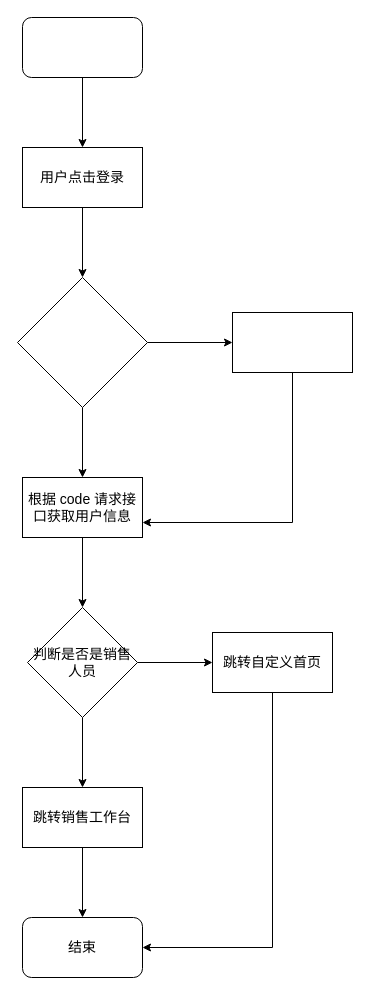
Some shapes in this 370 by 995 pixel diagram are drawn without their labels. Here are the shapes that lost their labels. From the top down, the box of each, then its label:
(22, 16, 142, 78): 开始
(16, 276, 148, 408): 调用 CheckSession() 检查是否过期
(232, 312, 352, 372): 调用 wx.login() 方法获取 code
